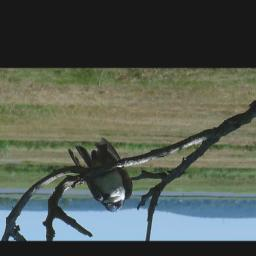Swallow: (65, 136, 135, 214)
